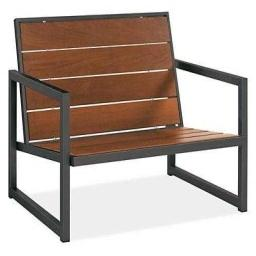Chair: (7, 16, 247, 238)
